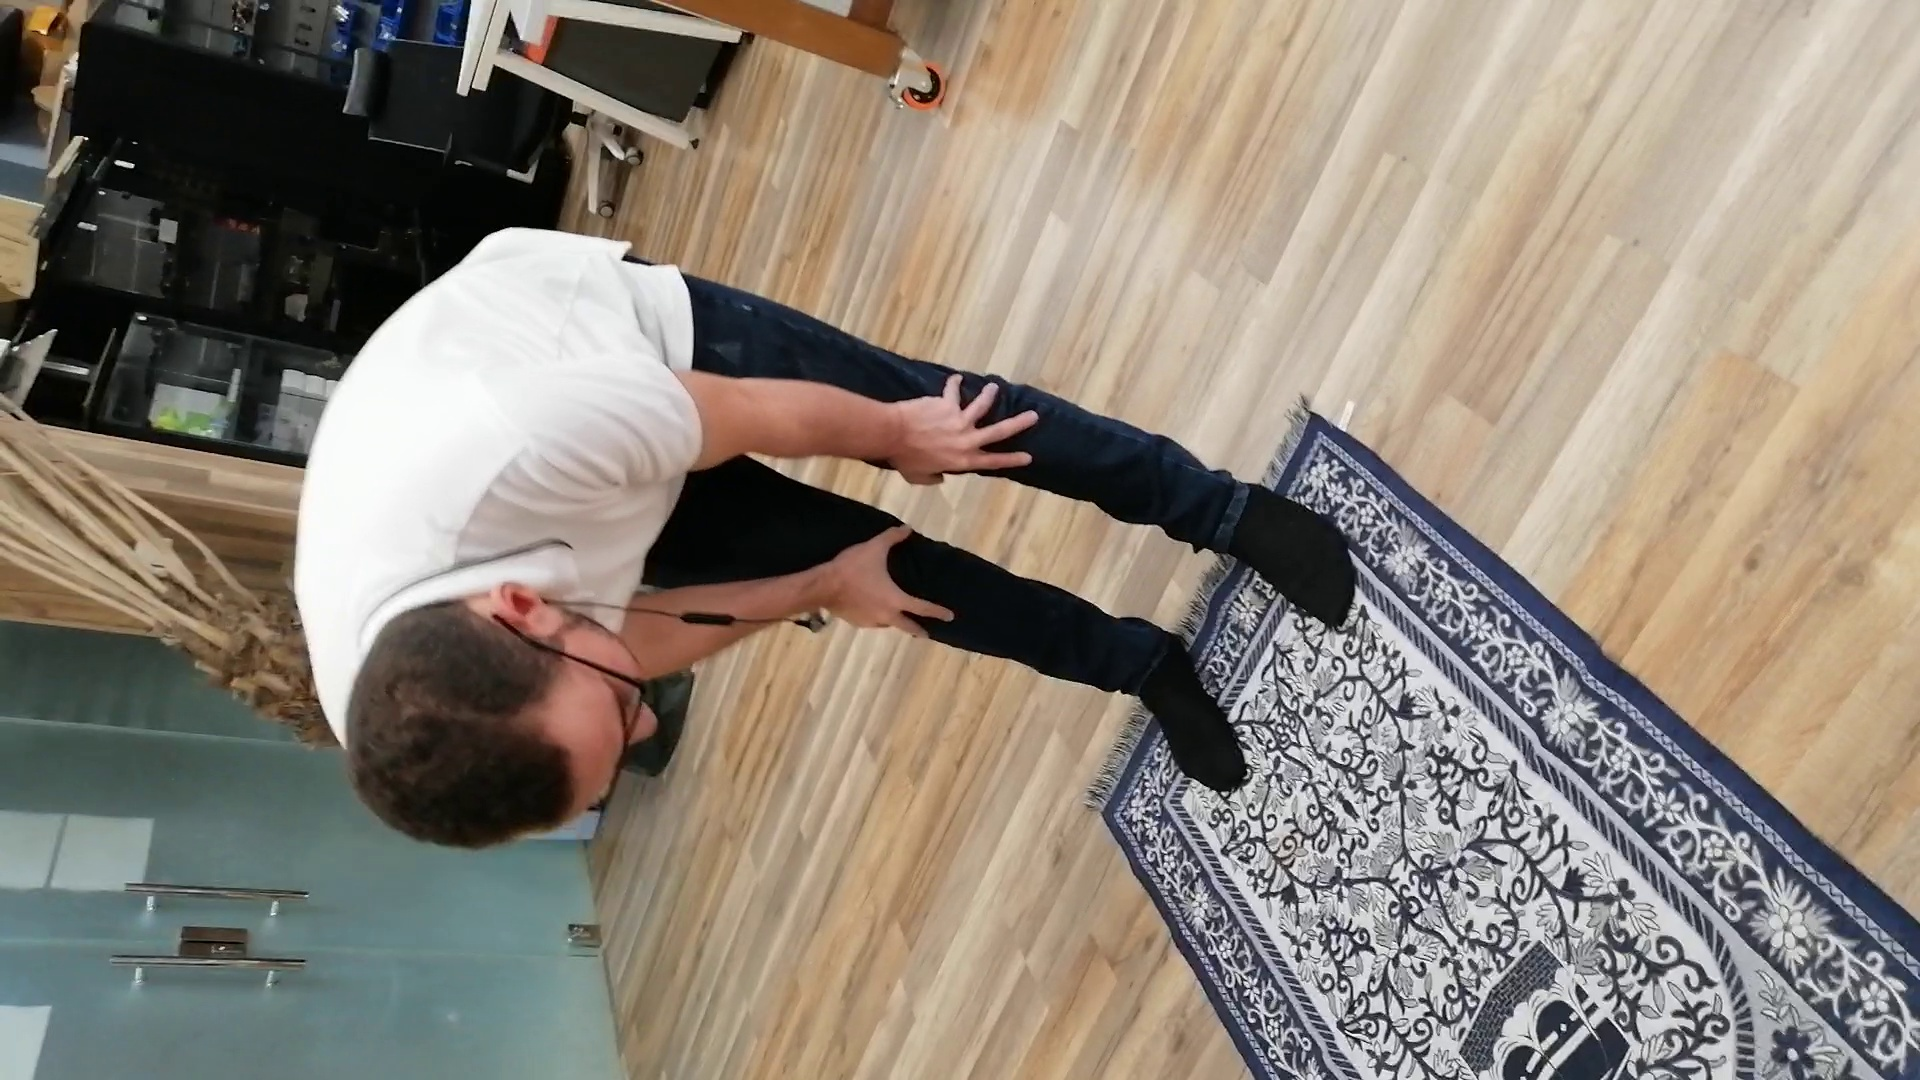ruku: (65, 133, 1478, 910)
